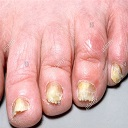Nail Fungal Infection: (75, 91, 101, 105), (43, 92, 64, 109), (110, 63, 124, 84)
